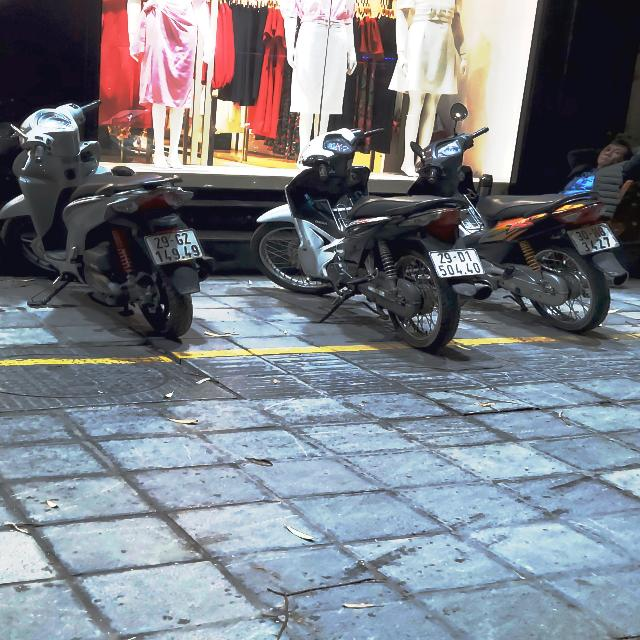license_plate: (144, 228, 208, 267), (570, 223, 624, 258), (431, 248, 488, 279)
